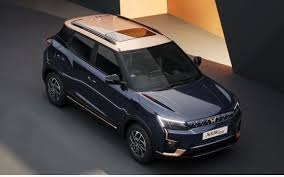XUV 400: (42, 12, 244, 165)
